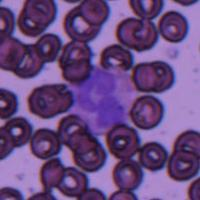N: (72, 67, 136, 136)
